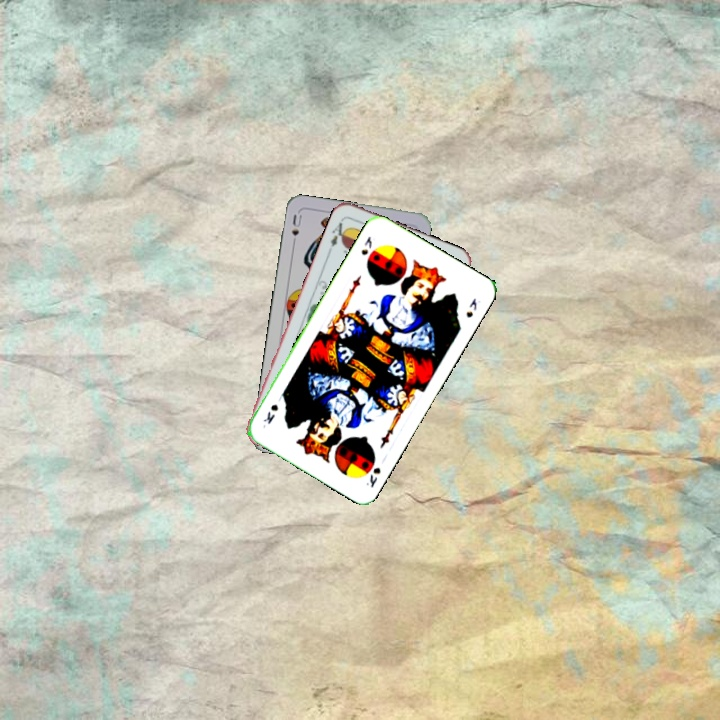EA: (324, 215, 350, 254)
SK: (362, 463, 383, 490), (357, 232, 375, 258)
SU: (287, 211, 304, 250)
